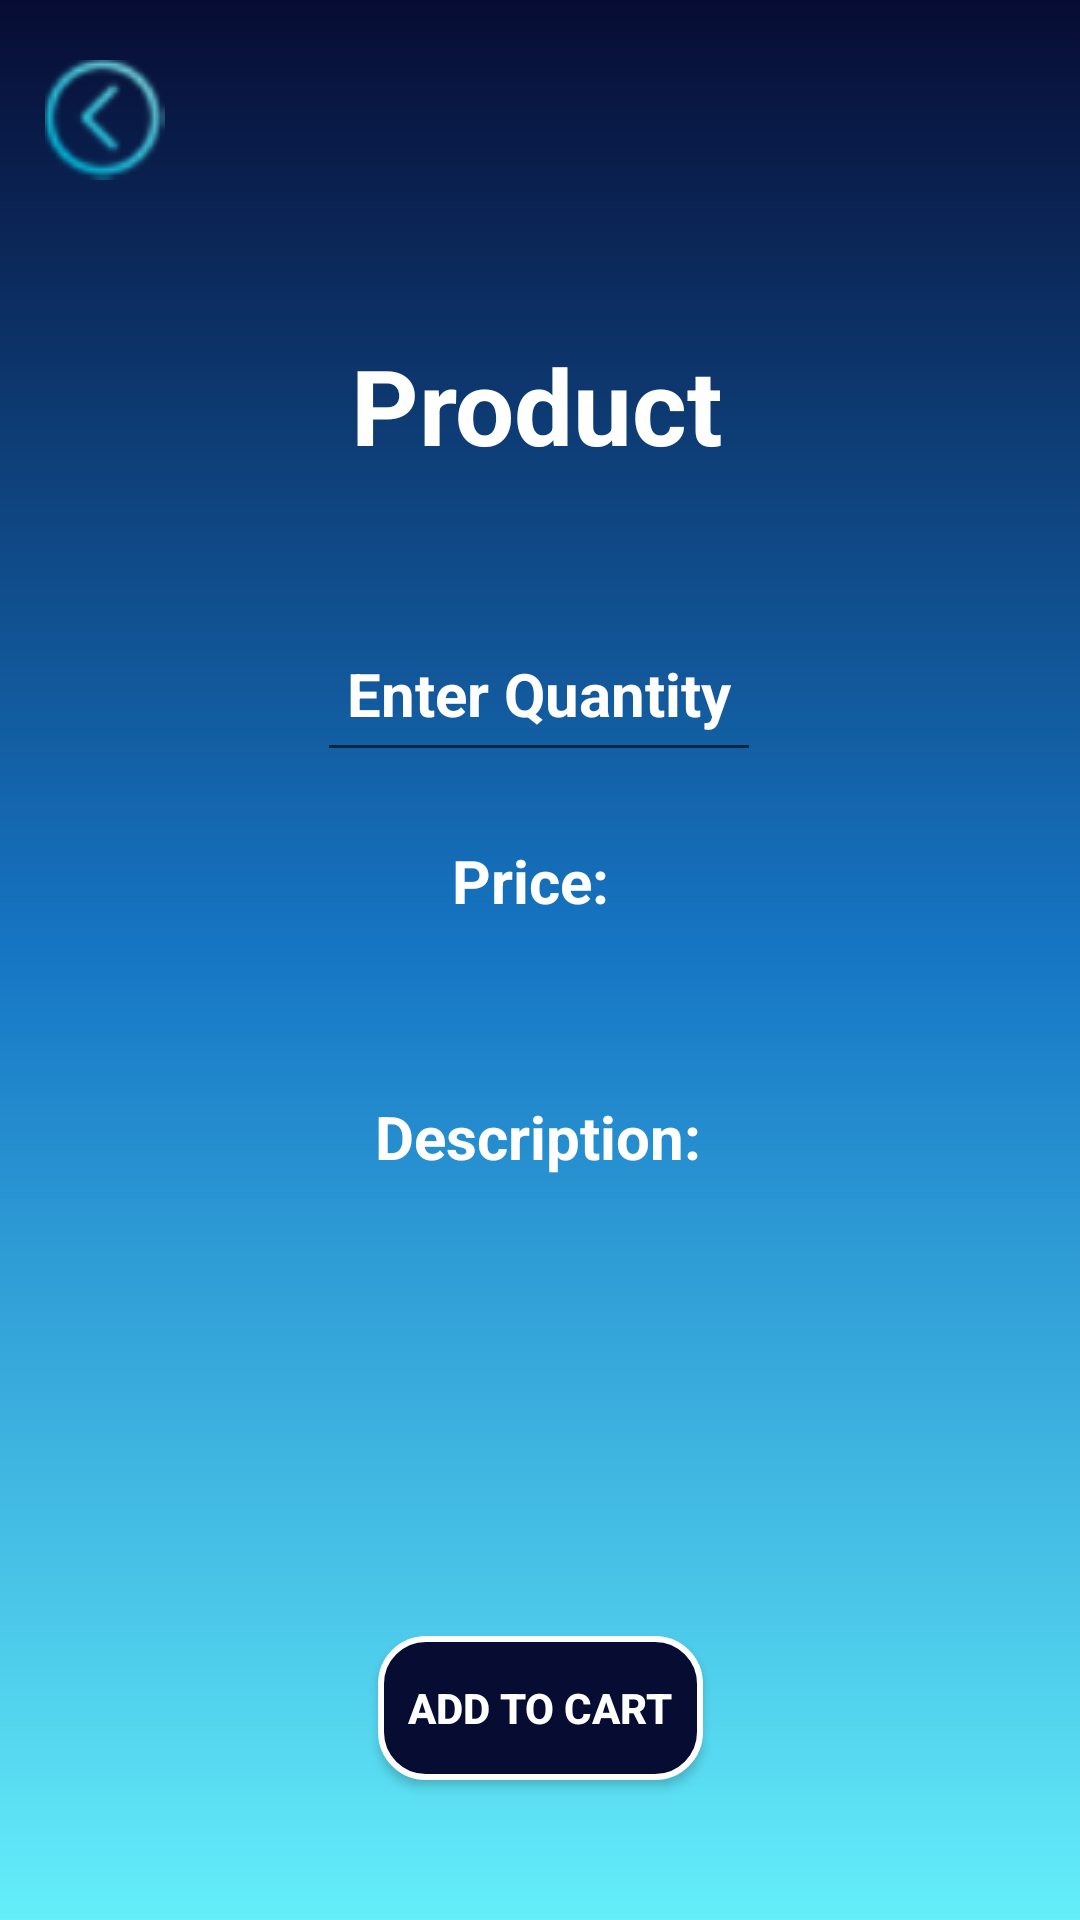

Where to tap for icons on this 1080×1920 app screen, as (x=x, y=y):
back: (x=105, y=90)
